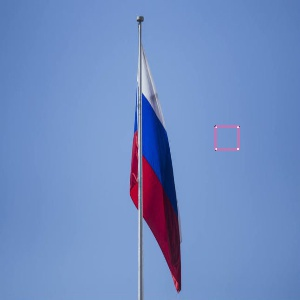square: (213, 124, 242, 153)
